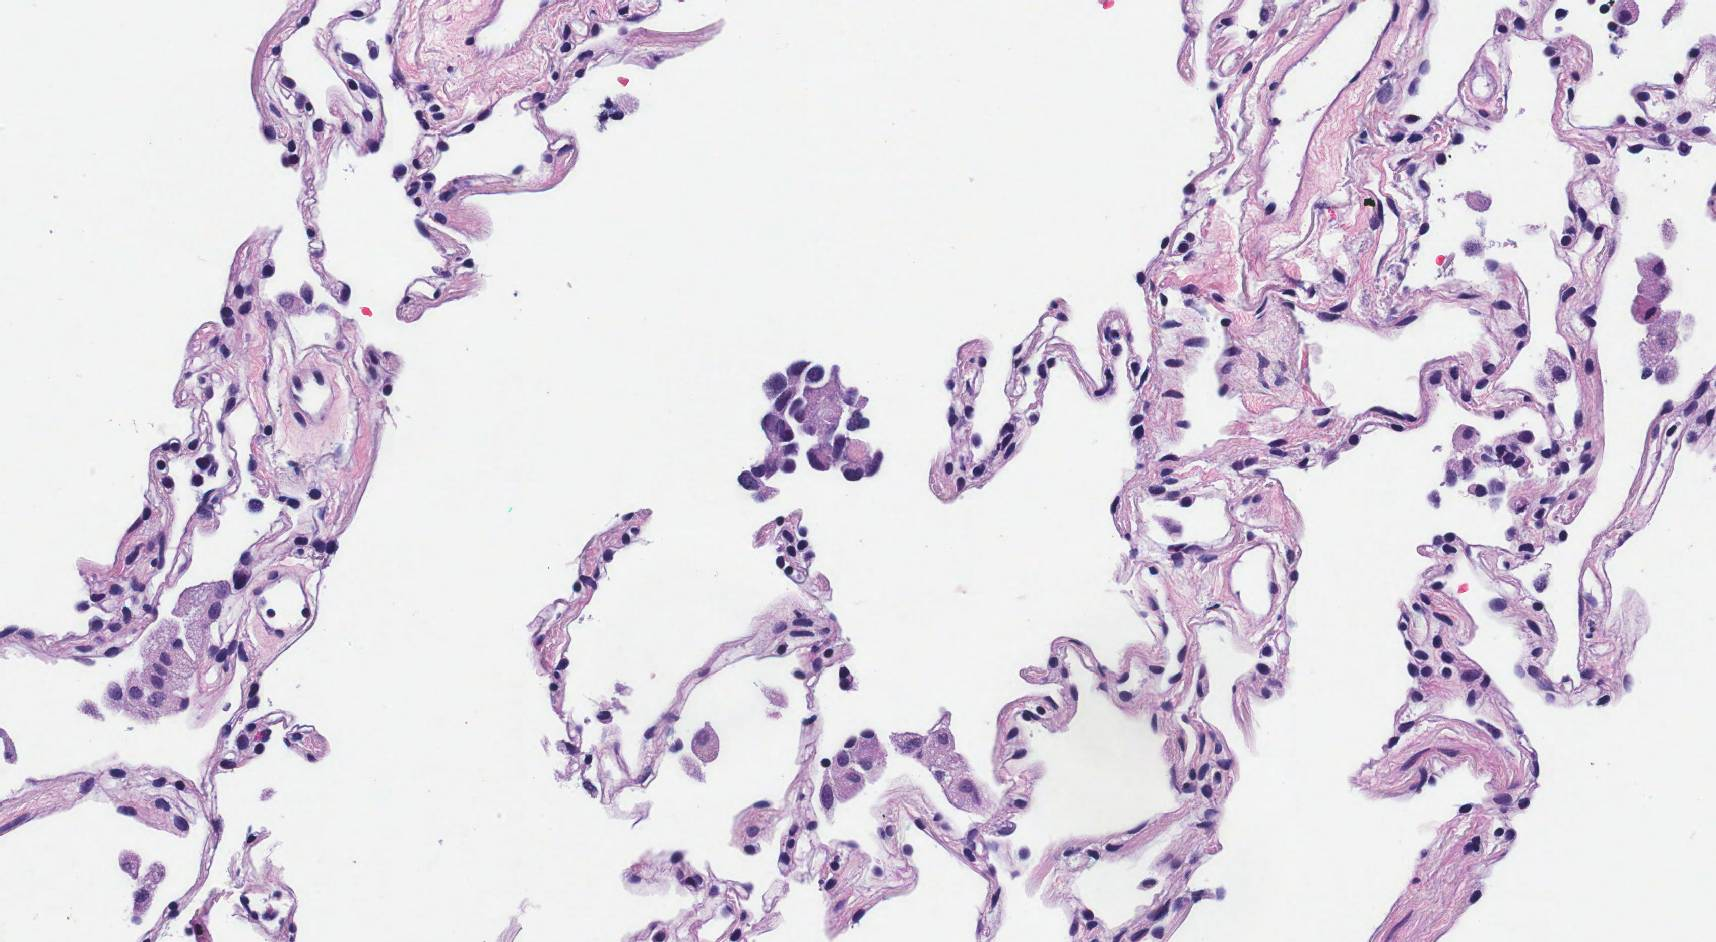stas: (733, 358, 887, 503)
